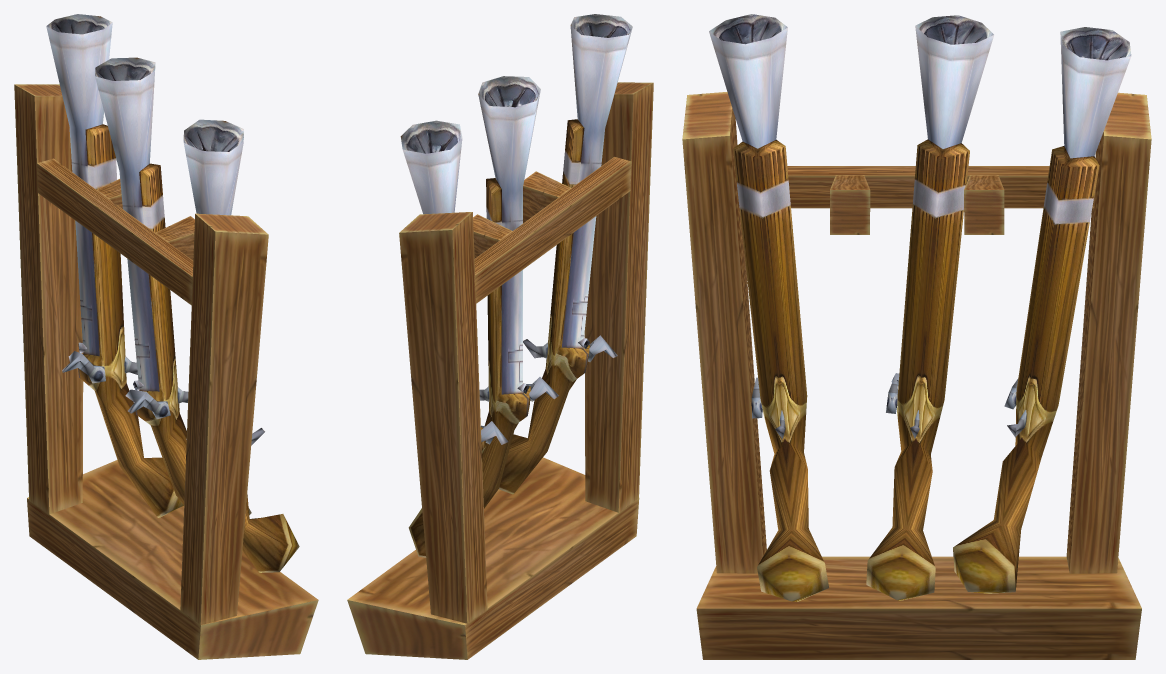
Rendered from gunrack02d.obj.
The picture shows the model from 3 angles, left to right: view 1: azimuth 30°, elevation 25°; view 2: azimuth 150°, elevation 25°; view 3: azimuth 270°, elevation 25°; orthographic projection. The views are drawn at different scales.
Parts seen in each view (by area): view 1: Geoset0, Geoset1; view 2: Geoset0, Geoset1; view 3: Geoset0, Geoset1.
Part boxes in pixels (x1,y1,x2,y2): Geoset0: (14,84,318,659); Geoset1: (46,14,299,572); Geoset0: (347,82,653,659); Geoset1: (400,14,632,557); Geoset0: (682,92,1151,659); Geoset1: (709,14,1131,601).
Size of the model in its own units: 0.4846 by 1.81 by 1.29.
Materials: 2 (2 with a texture image).
